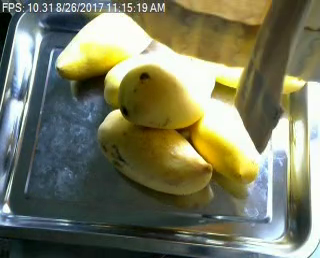Mango: (98, 109, 210, 191), (55, 8, 154, 72), (185, 98, 259, 182), (121, 57, 207, 126), (104, 55, 214, 105), (212, 53, 304, 94)
